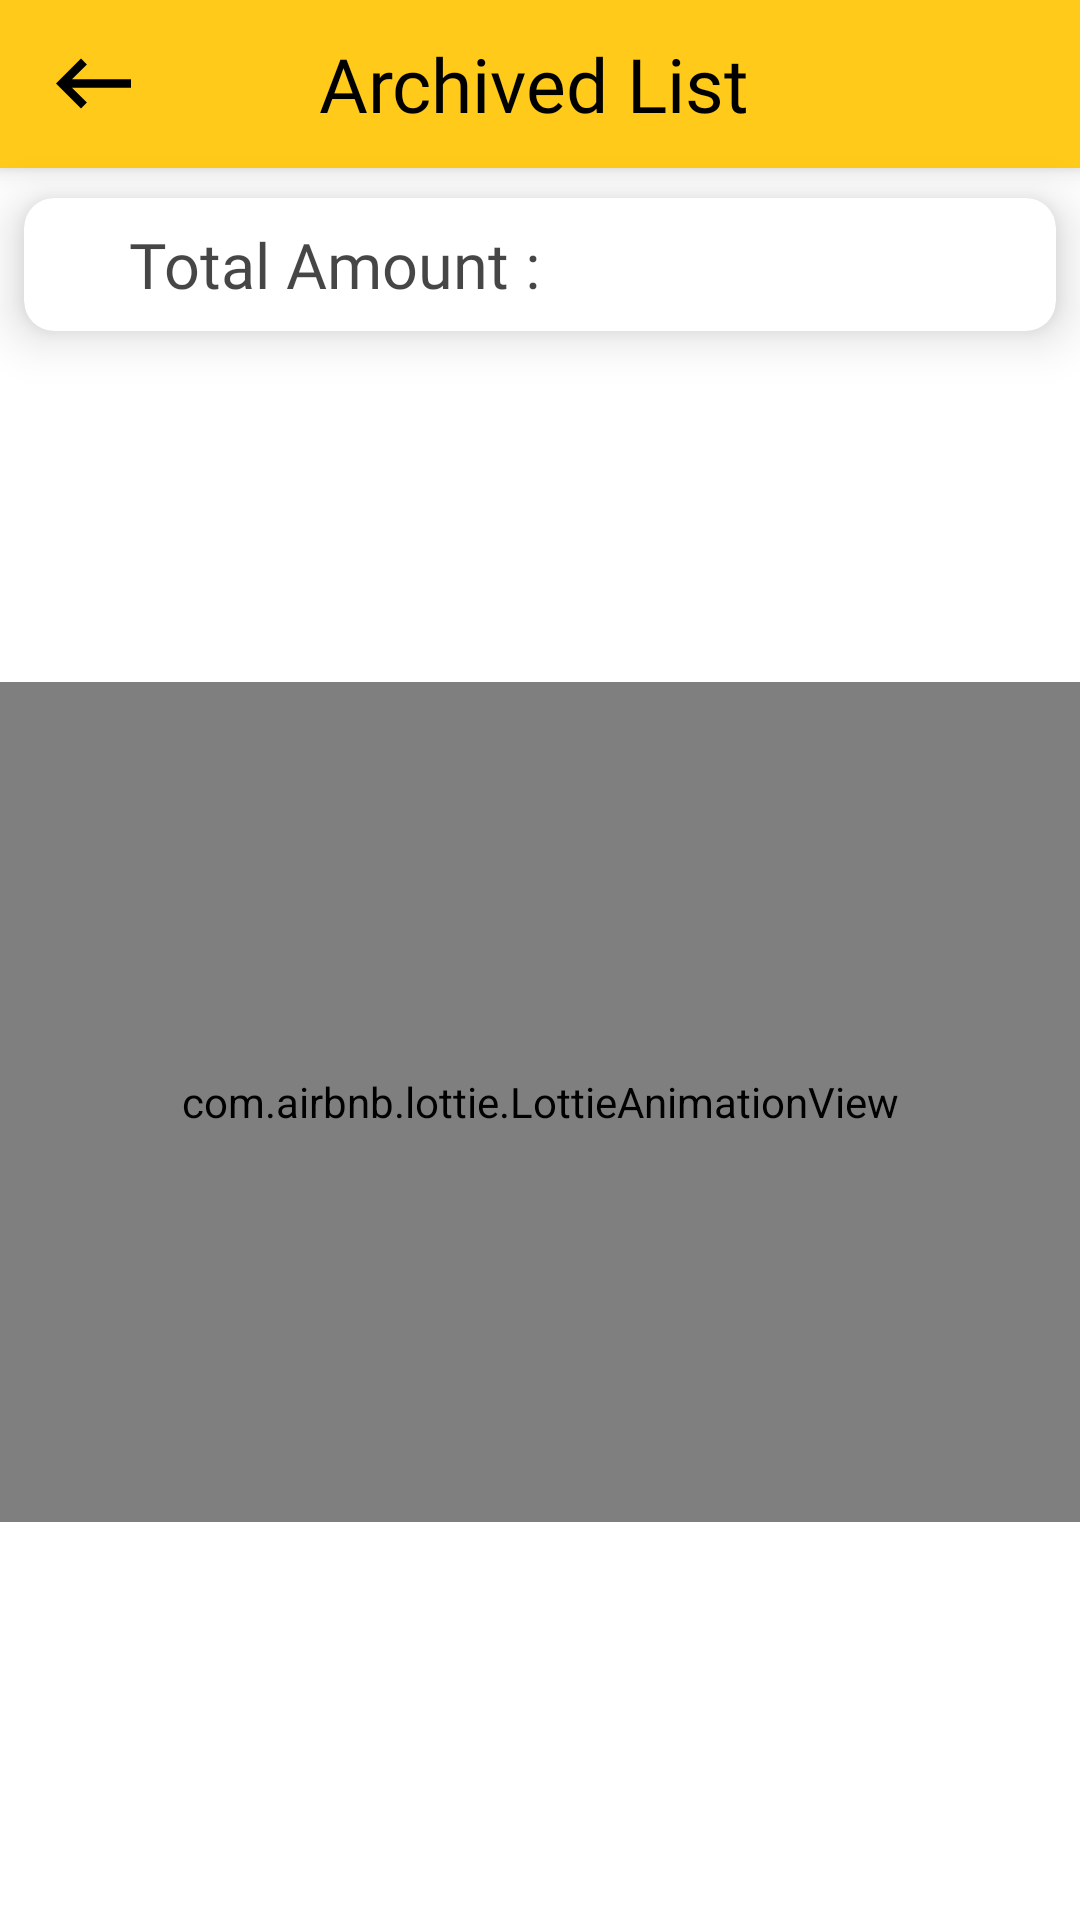

Screen size 1080px x 1920px. Icon name, then its box in pixels as bbox(x1, y1, x2, y2):
back arrow: bbox(56, 58, 131, 109)
